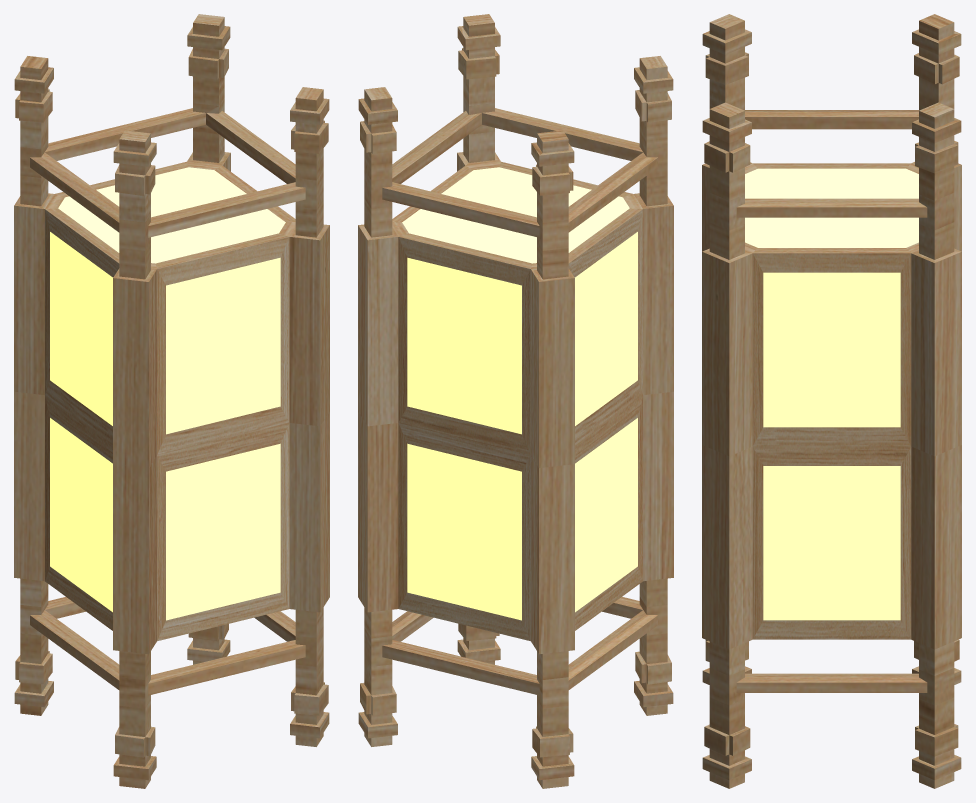
File: NNJ0310015.fbx
3 renders of one model, left to right at view 1: azimuth 30°, elevation 25°; view 2: azimuth 150°, elevation 25°; view 3: azimuth 270°, elevation 25°, orthographic. The views are drawn at different scales.
Parts seen in each view (by area): view 1: smNNJ0310015; view 2: smNNJ0310015; view 3: smNNJ0310015.
Part boxes in pixels (x1,y1,x2,y2): smNNJ0310015: (14, 14, 329, 788); smNNJ0310015: (358, 14, 673, 788); smNNJ0310015: (702, 14, 961, 788).
Bounding box in the file's own units: 43.97 × 125 × 43.97.
1 material, 1 textured.
